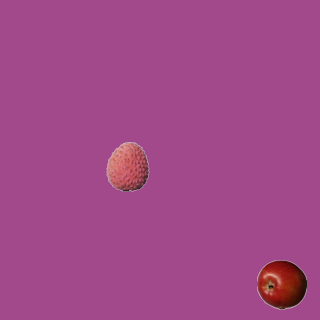Apple Braeburn: (256, 259, 306, 309)
Lychee: (102, 141, 152, 191)
